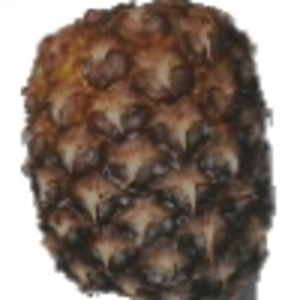abacaxi: (18, 2, 280, 295)
